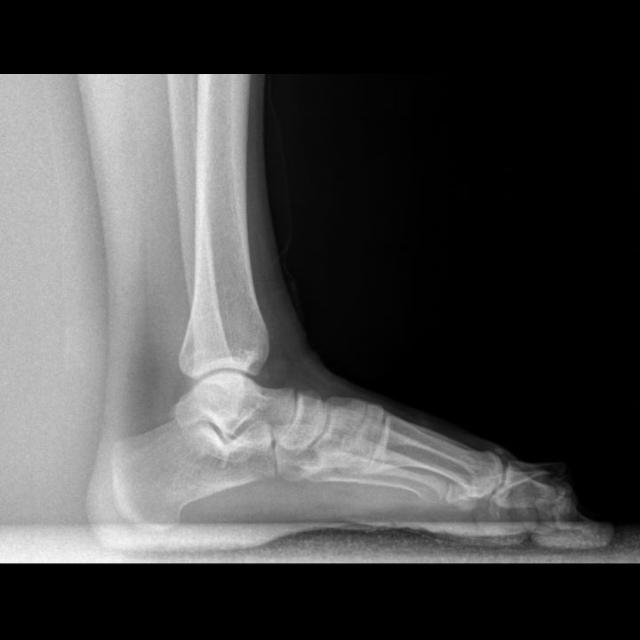a: (109, 417, 281, 530)
b: (281, 389, 328, 451)
c: (370, 418, 501, 503)
